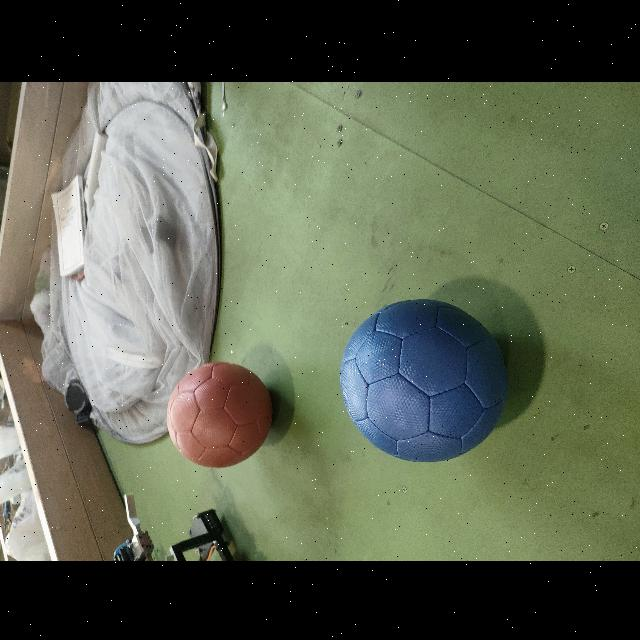B: (340, 296, 513, 462)
R: (166, 359, 277, 468)
